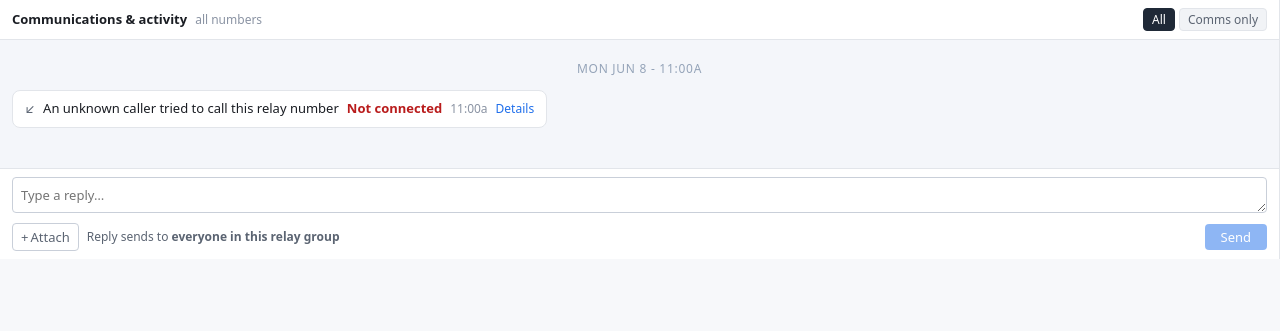
it: Timeline call cards - direction › keeps unknown external caller details available without caller ID
Expected: the text "An unknown caller tried to call this relay number" is shown, 43,99 -> 339,118
Click the button named "Details for An unknown caller tried to call this relay number" at coordinates (515, 109), box 496,100 -> 534,117
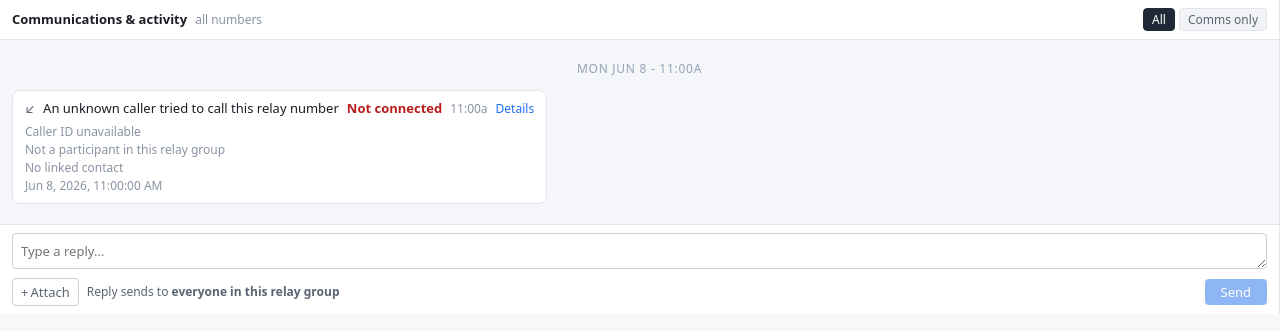
Now the text "Caller ID unavailable" is shown, box 25,122 -> 141,140
Now the text "No linked contact" is shown, box 25,158 -> 123,176
